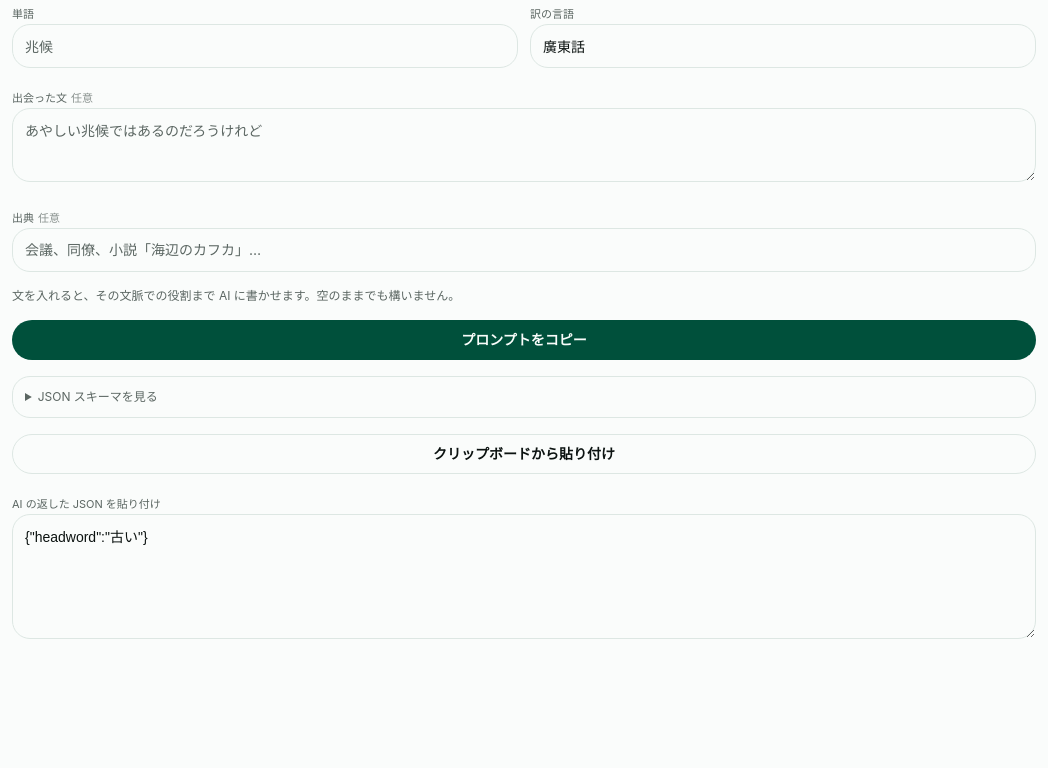
JsonImport — pasting from the clipboard › overwrites the box and imports, rather than appending to what is there
This screenshot has width=1048, height=768.
Click the button "クリップボードから貼り付け" at (524, 454), box [12,434,1036,474]
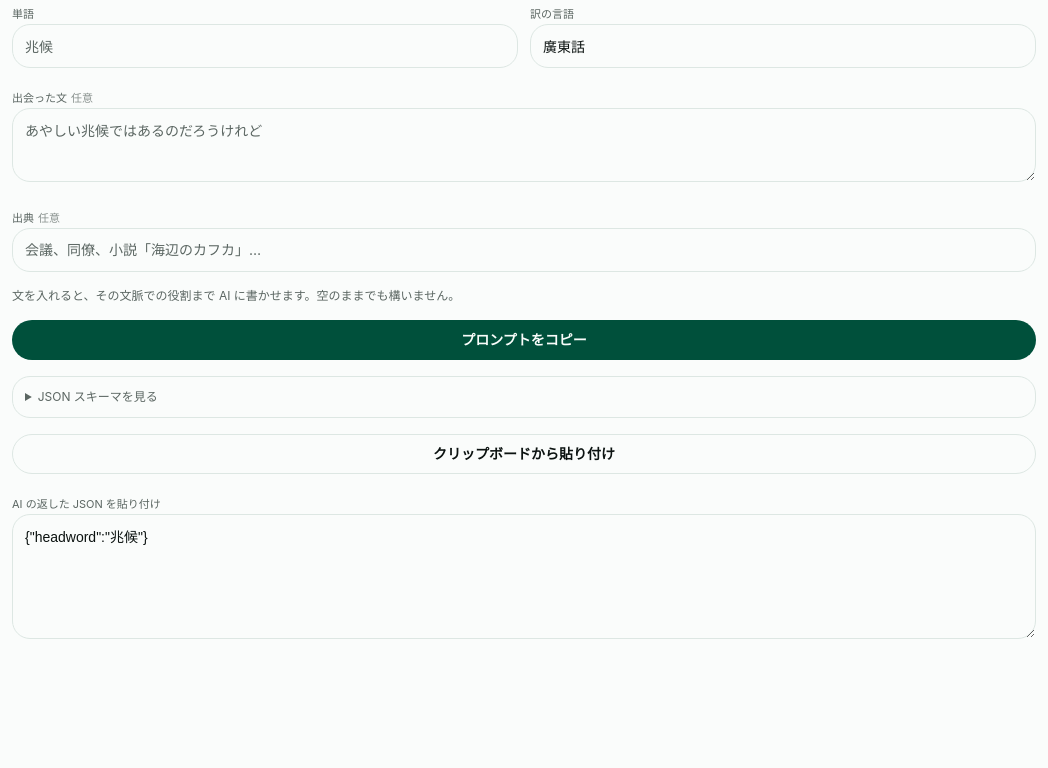
expect the text box labelled "AI の返した JSON を貼り付け" holds "{\"headword\":\"兆候\"}": met, box [12,514,1036,639]
